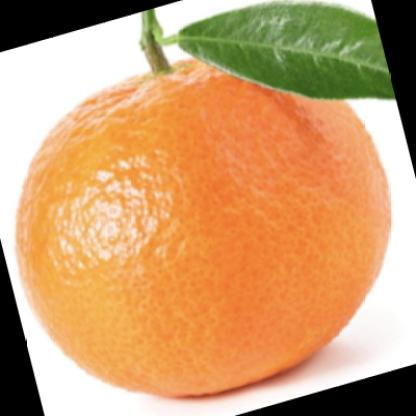fresh: (14, 16, 394, 400)
